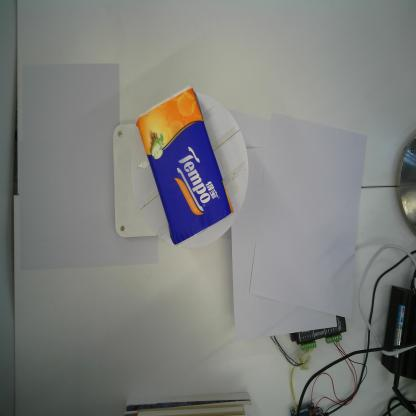Tissue: (133, 82, 236, 252)
